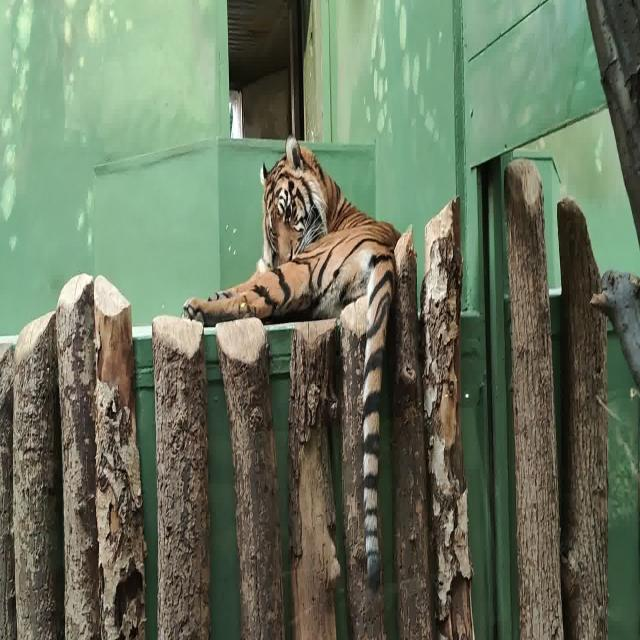tiger: (183, 134, 401, 594)
